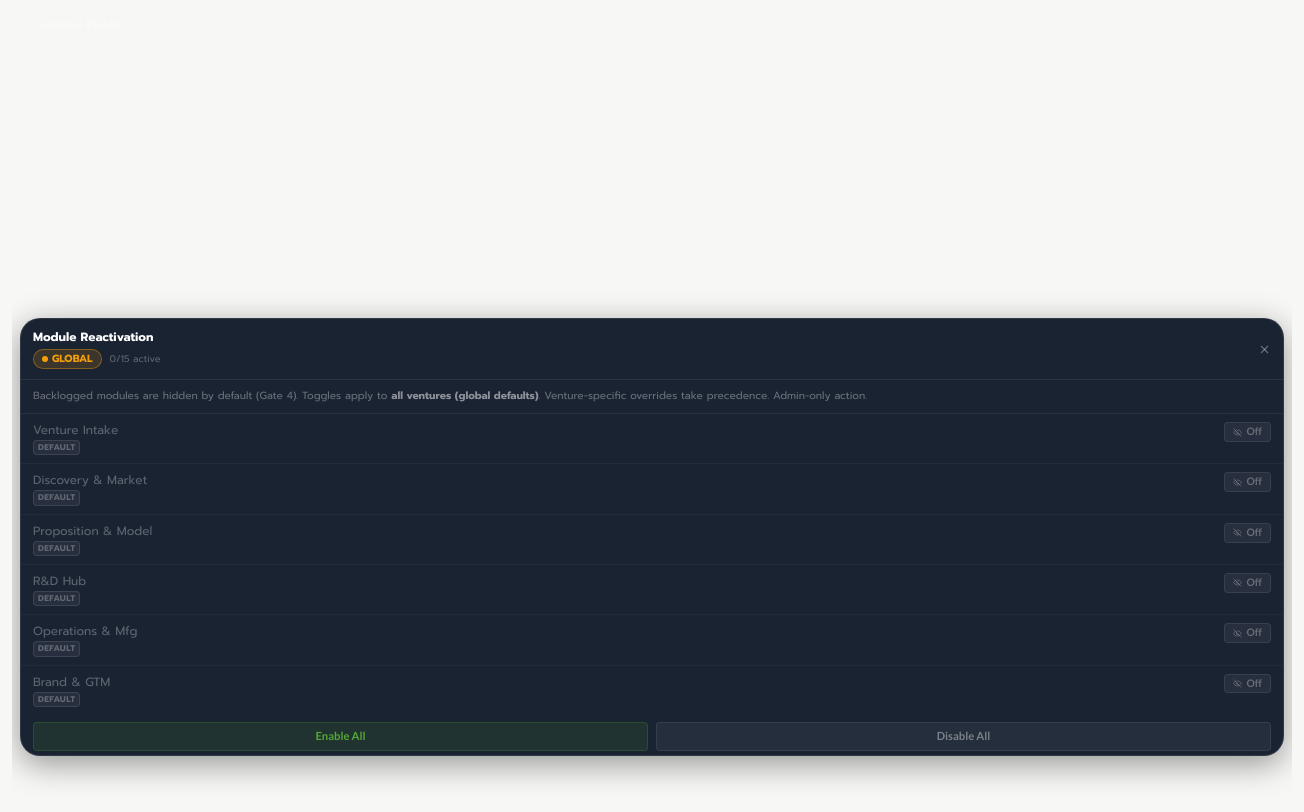
Scenario: toggle in ReactivationPanel → header badge in ExtendedBacklogSection (integration) › supplementary: auto-expand when activeCount increases after reactivation (#195) › section auto-expands after reactivate() — admin no longer needs to click the header manually (#195)
The width and height of the screenshot is (1304, 812).
# Reactivate via the panel — activeCount goes from 0 → 1.
Step 1. Click the button "Off" in the row of "Venture Intake" → (1248, 432), box [1224, 422, 1271, 442]
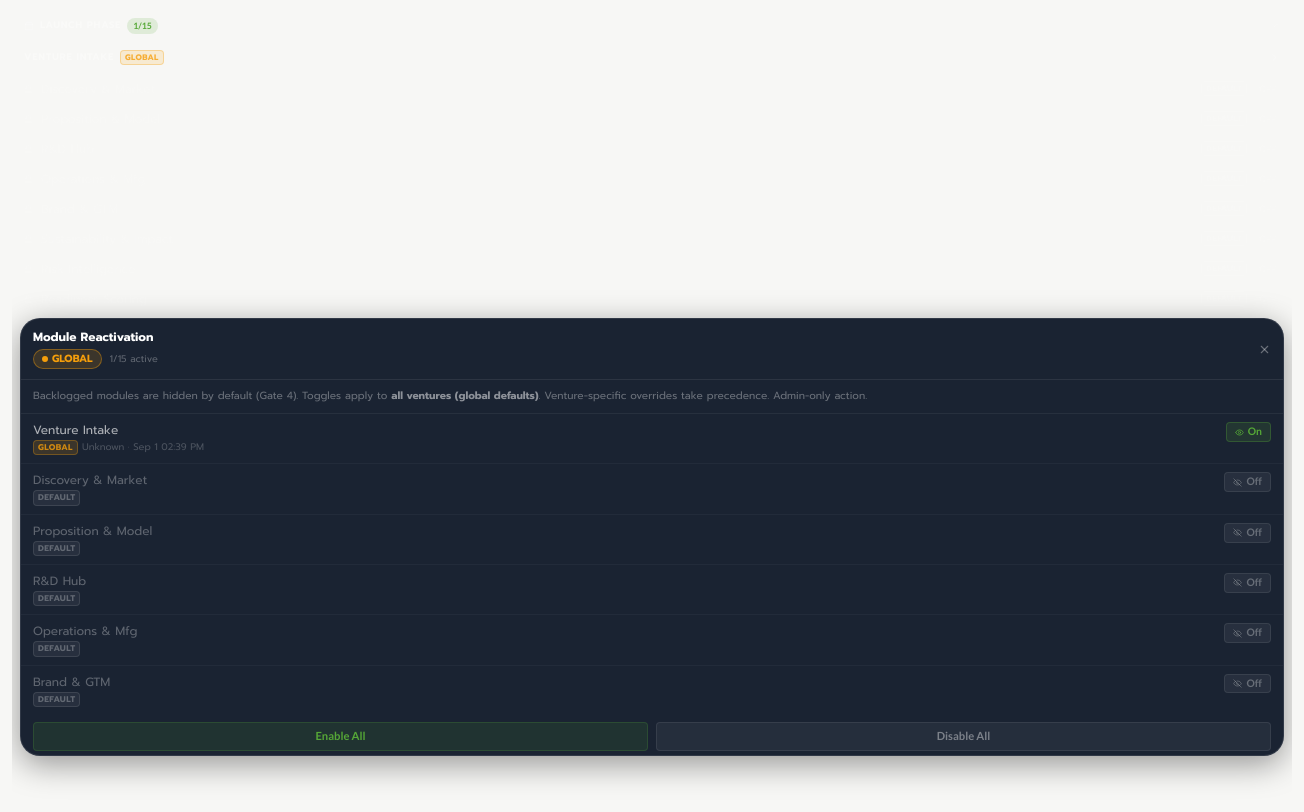
Expected: the text named "Enabled by a global rule" reads "GLOBAL", [125, 51, 159, 63]
